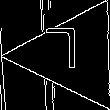L_S: (55, 30, 91, 81)
